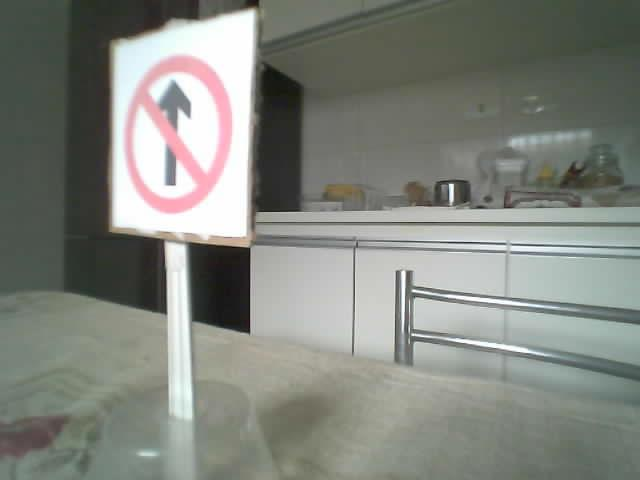R-3_sentido-proibido: (123, 54, 232, 214)
